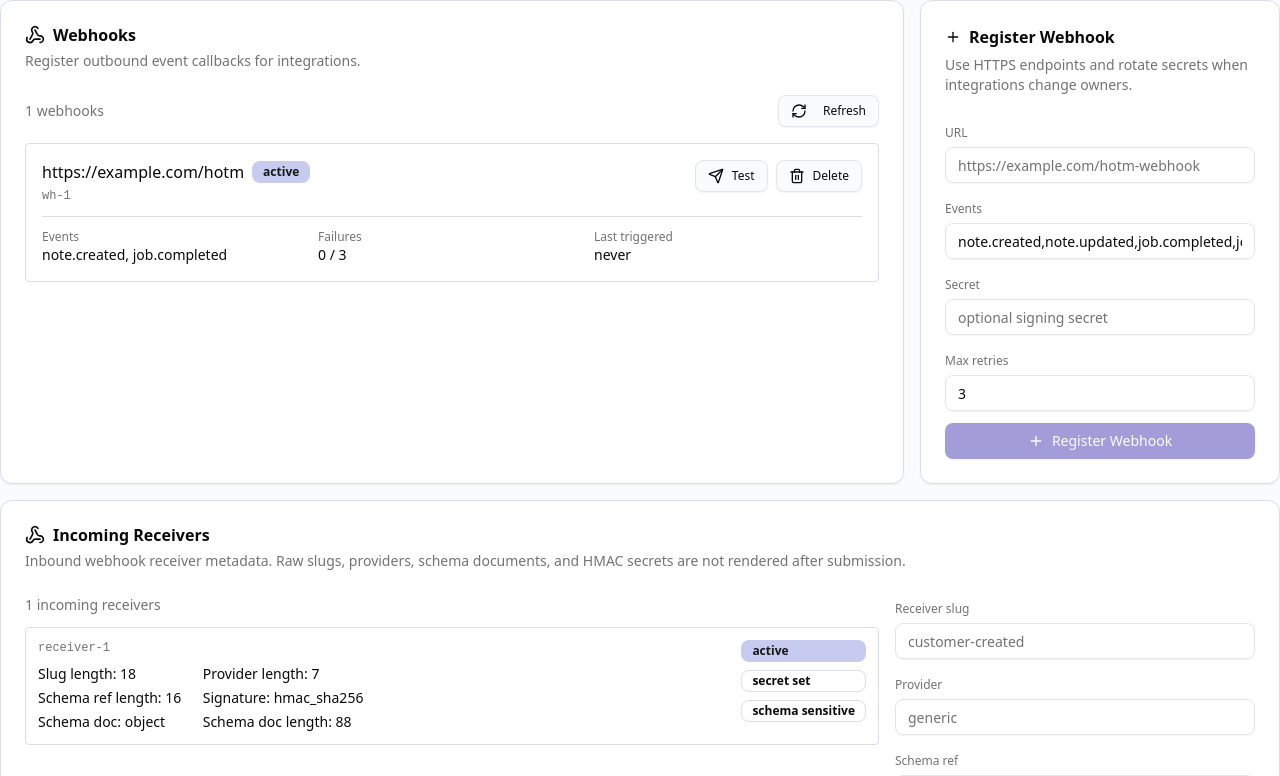
Test: WebhooksPanel › registers a new webhook
expect the text "https://example.com/hotm" is shown: met, box x1=42 y1=160 x2=244 y2=184
Type "https://example.com/new" into the field labelled "URL" at (1100, 165), box x1=945 y1=147 x2=1255 y2=183
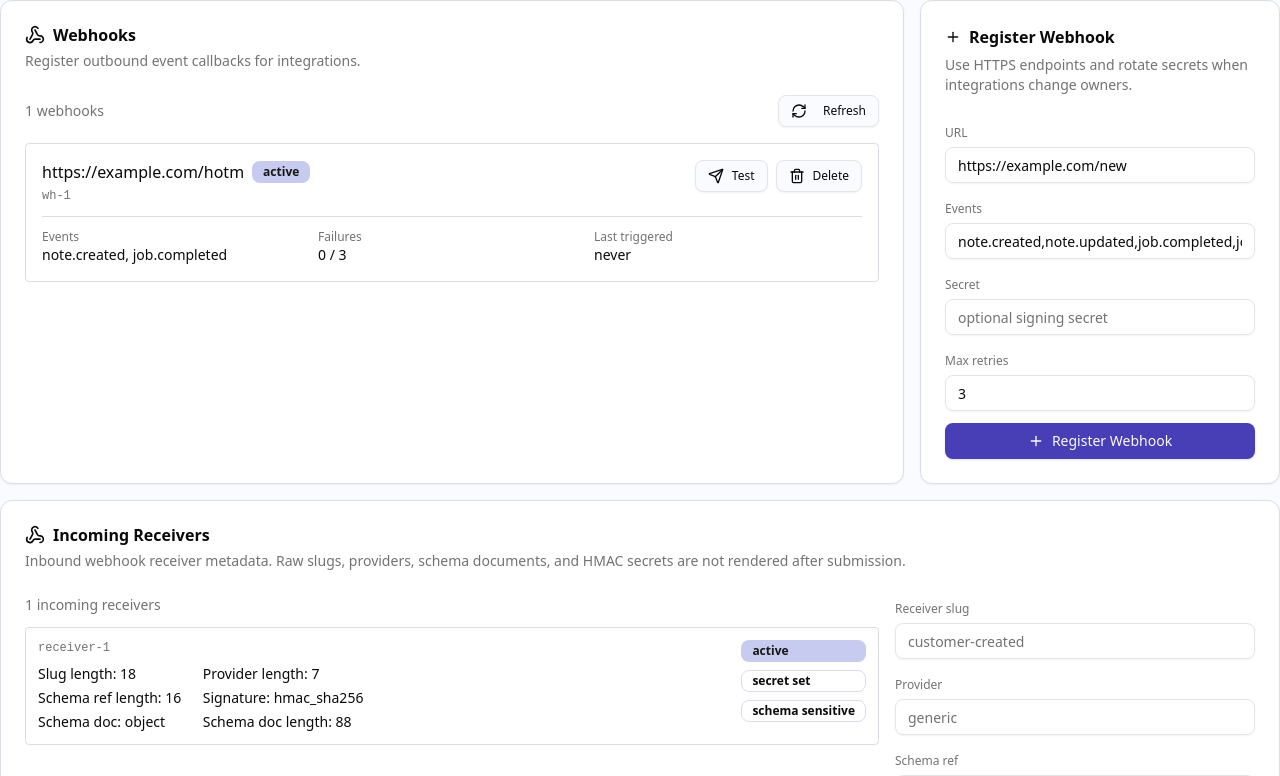
Type "note.created, note.updated" into the field labelled "Events" at (1100, 241), box x1=945 y1=223 x2=1255 y2=259
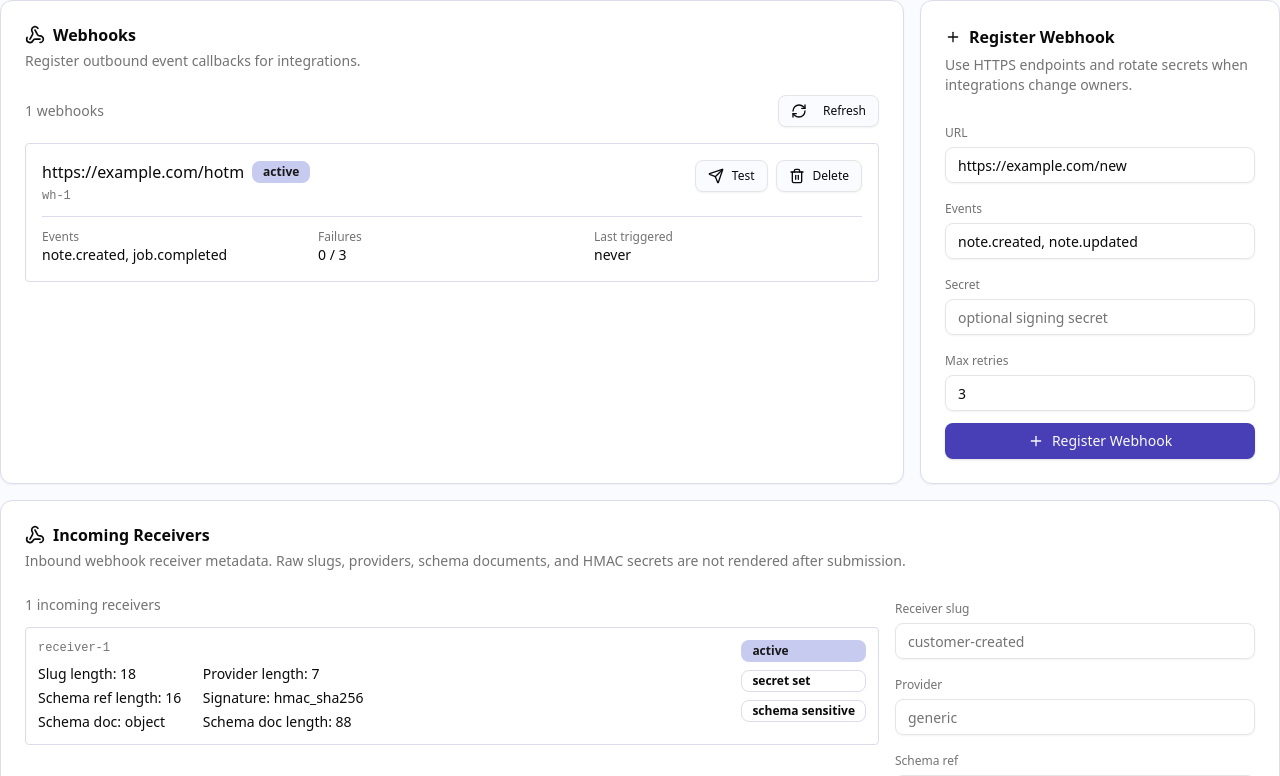
Type "secret-value" into the password field labelled "Secret" at (1100, 317), box x1=945 y1=299 x2=1255 y2=335
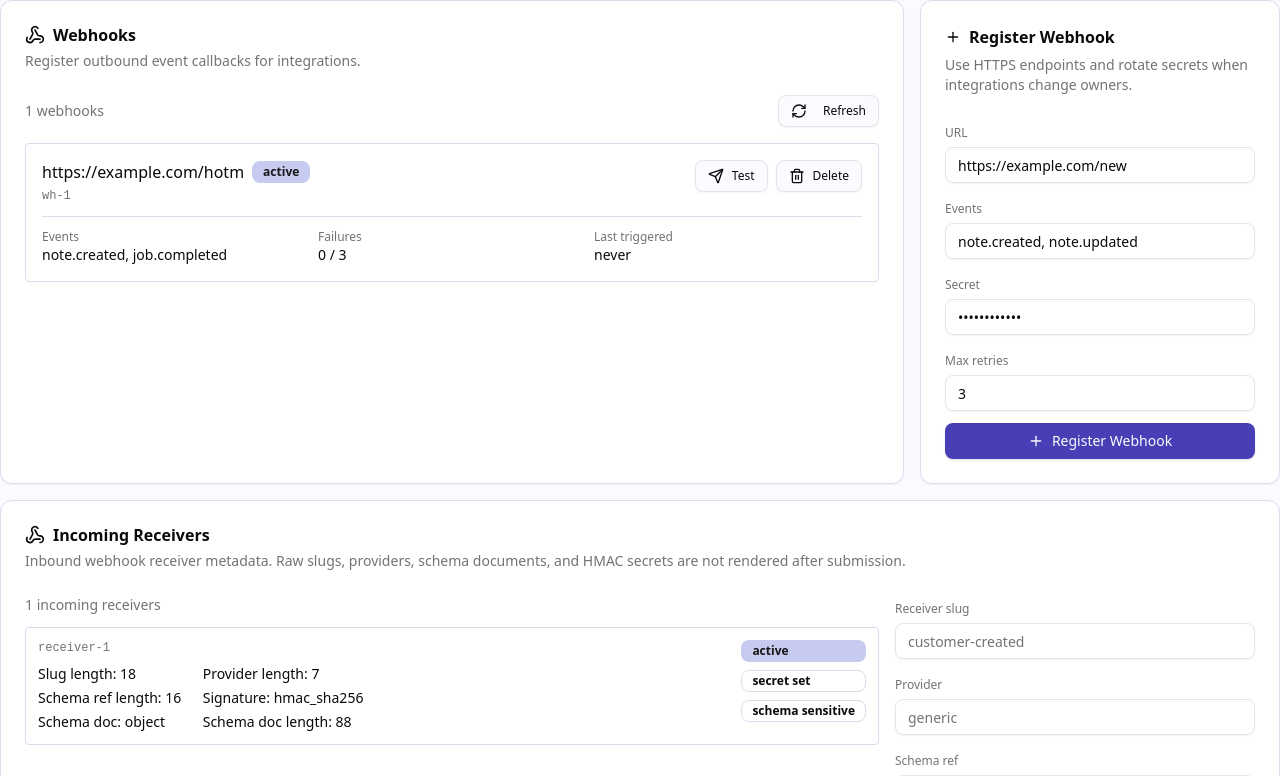
Replace the text in the field labelled "Max retries" with "5" at (1100, 393), box x1=945 y1=375 x2=1255 y2=411
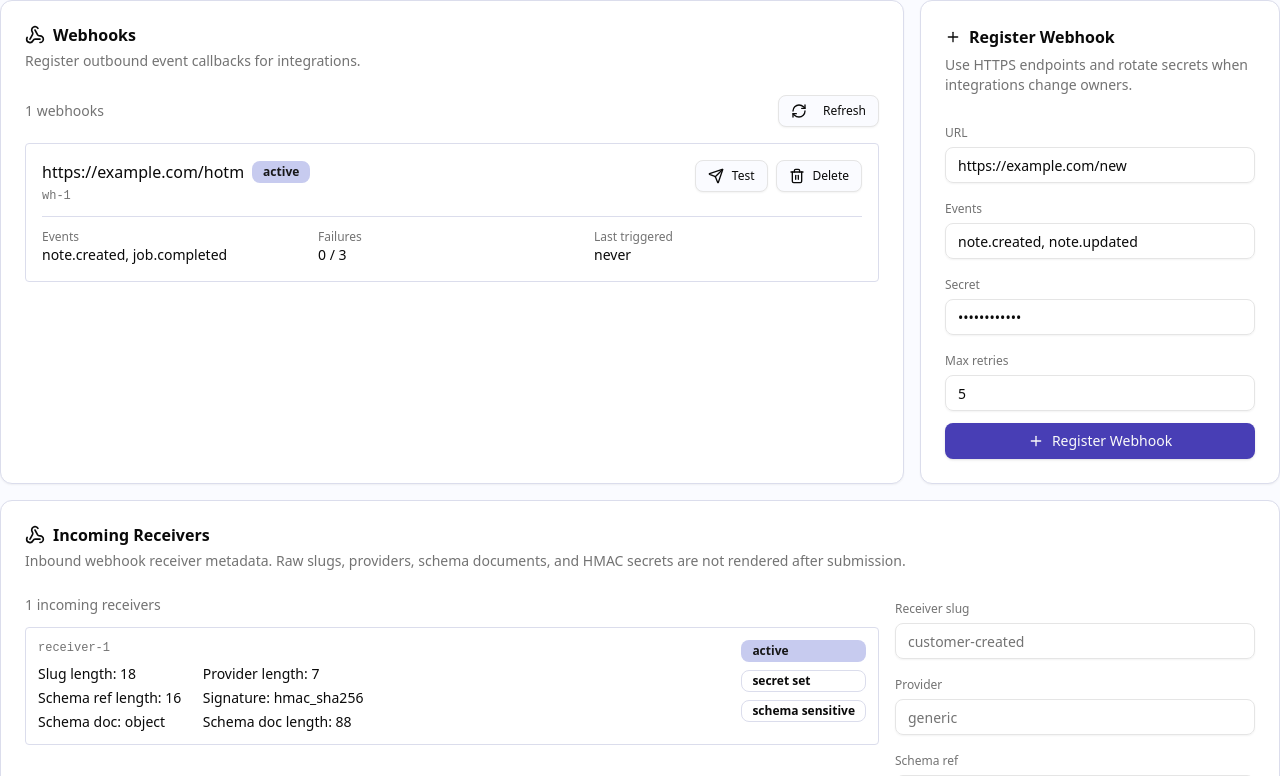
Click the button "Register Webhook" at (1100, 441), box x1=945 y1=423 x2=1255 y2=459
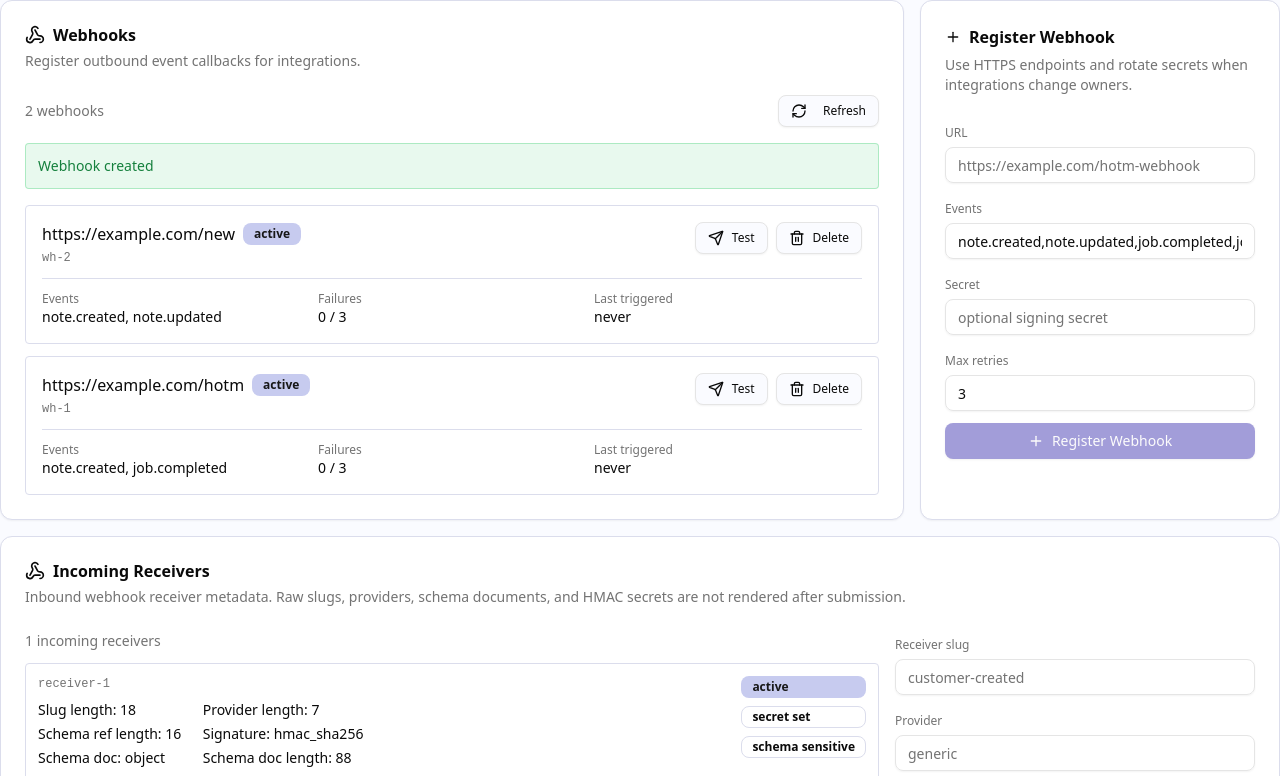
expect the text "Webhook created" is shown: met, box x1=25 y1=143 x2=879 y2=189
